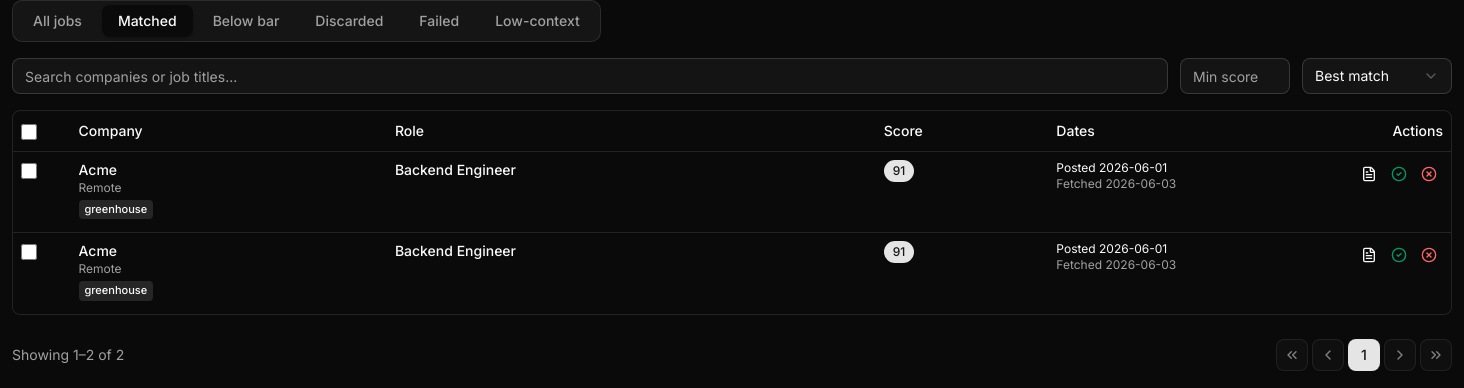
DiscoveredJobsTable › names WHICH low-context rule caught the row (short body vs scorer flag)
Click the button "Low-context" at (537, 21), box [479,5,596,37]
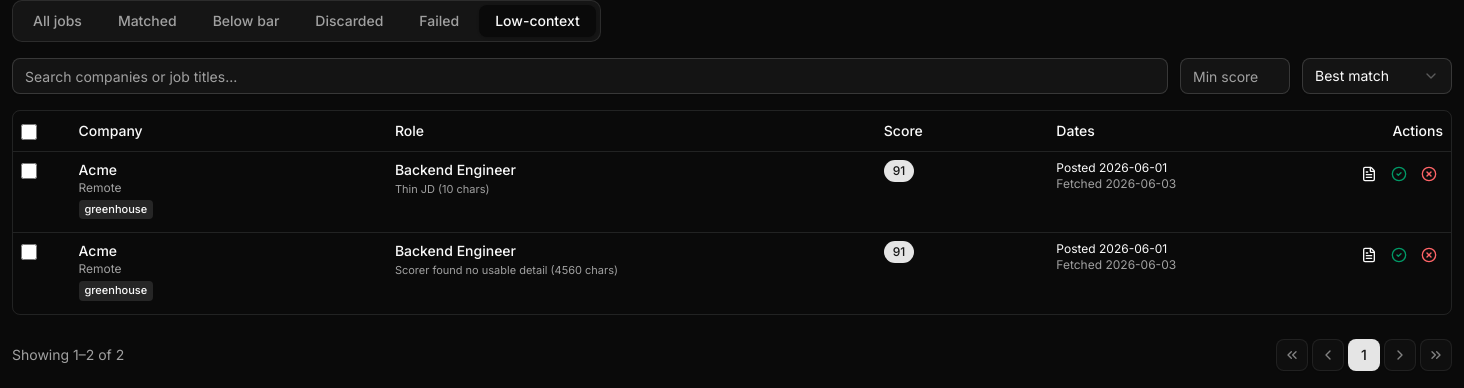
expect the text "Thin JD (10 chars)" is shown: met, box [395,182,490,196]
expect the text "Scorer found no usable detail (4560 chars)" is shown: met, box [395,263,618,277]
